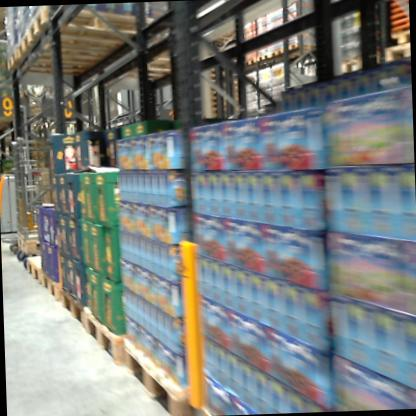pallet: (24, 3, 170, 52), (121, 336, 206, 416), (12, 26, 130, 67), (6, 46, 133, 79), (81, 306, 128, 371), (334, 47, 381, 80), (34, 263, 65, 307), (56, 285, 83, 332), (285, 36, 328, 61), (16, 232, 51, 257), (381, 45, 411, 73), (372, 28, 410, 50), (22, 248, 43, 286), (272, 45, 303, 64), (243, 55, 257, 72), (255, 54, 272, 67)
pallet_truck: (0, 121, 50, 245)
